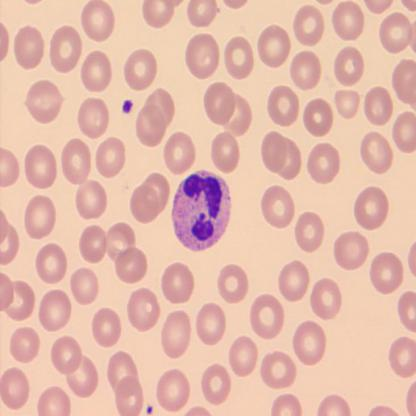Segmented neutrophil: (170, 166, 232, 254)
